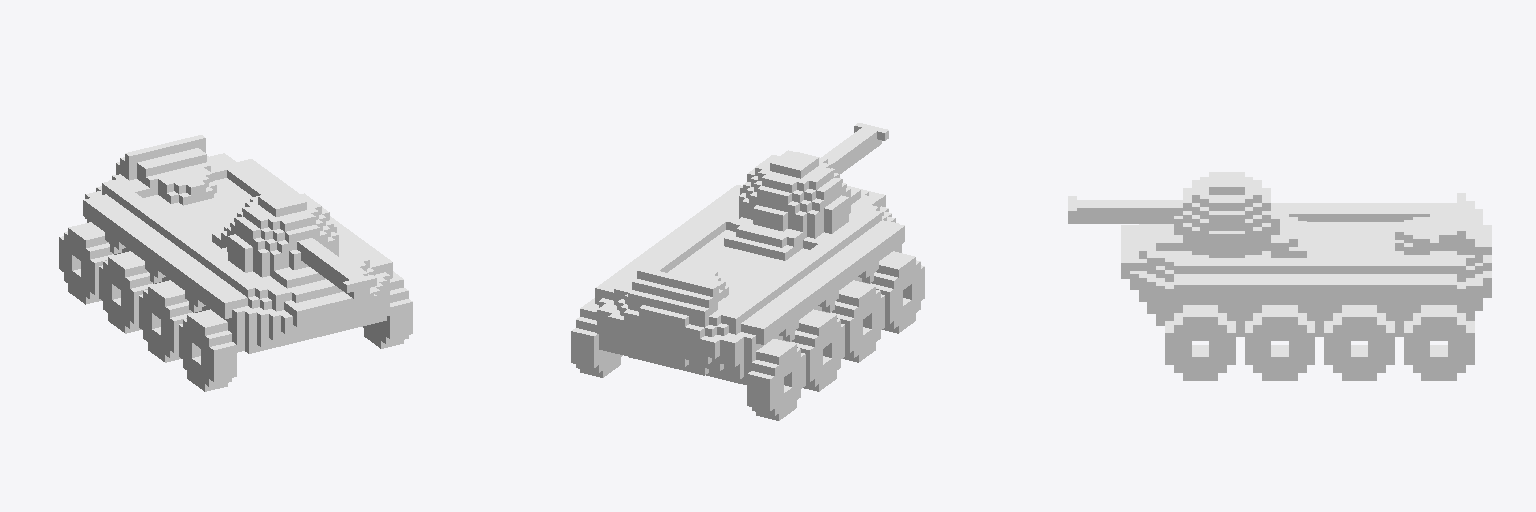
Rendered from btr.obj.
3 views of the same model, side by side, from view 1: azimuth 30°, elevation 25°; view 2: azimuth 150°, elevation 25°; view 3: azimuth 270°, elevation 25° (orthographic).
Visible parts, largest first — view 1: btr; view 2: btr; view 3: btr.
Boxes of the visible parts, x1,y1,x2,y2 form: btr: [59, 135, 412, 391]; btr: [571, 123, 924, 420]; btr: [1068, 172, 1491, 380].
Size of the model in its own units: 26 by 19 by 48.